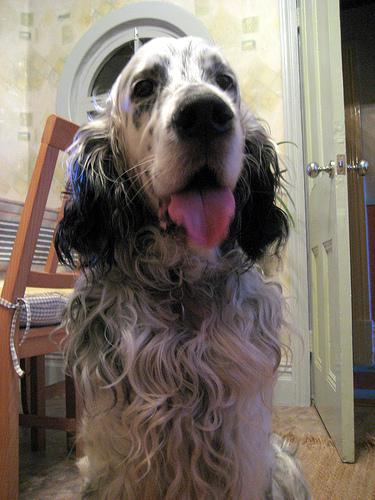dog-english_setter: (54, 35, 278, 258)
